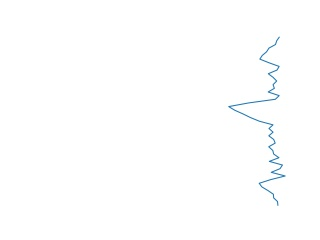interdistributaryEstuary: (227, 37, 287, 207)
